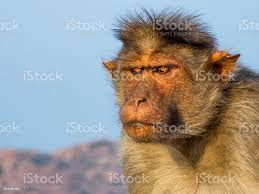monkey: (53, 15, 259, 179)
